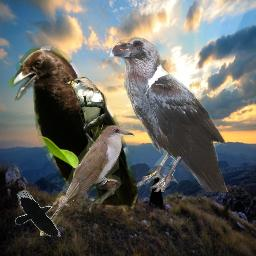Crow: (9, 46, 138, 220), (109, 36, 228, 192), (15, 190, 61, 237)
Cuckoo: (40, 125, 135, 236), (64, 77, 107, 167)
